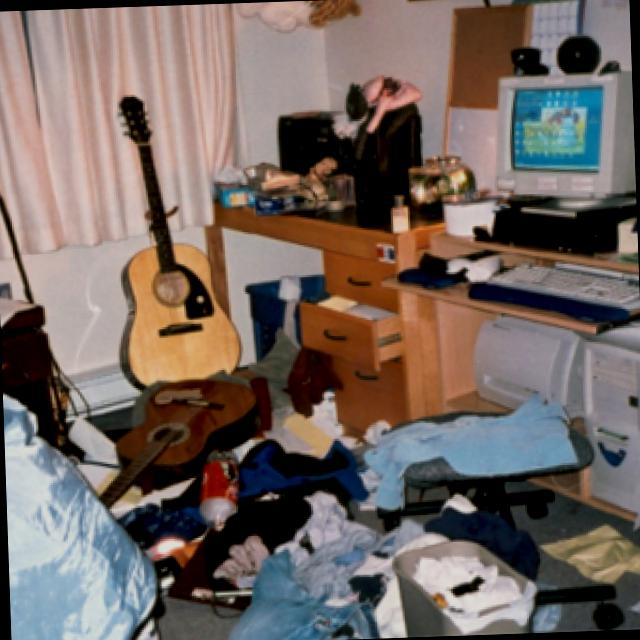mess: (59, 345, 627, 640), (248, 92, 457, 240), (303, 240, 429, 446)
